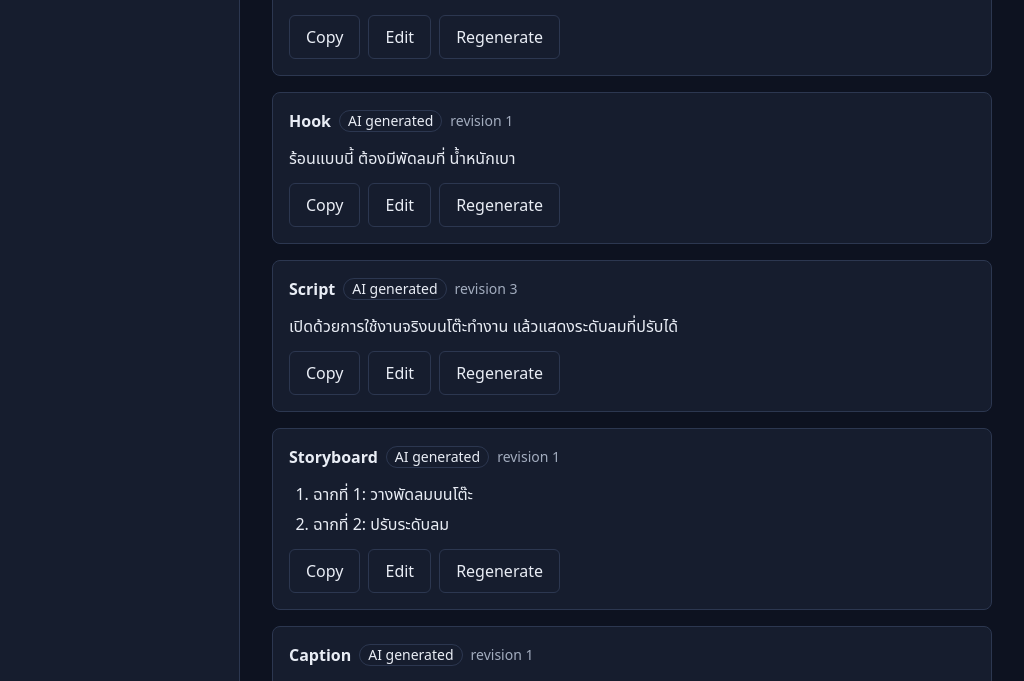
Test case: DraftPage: regenerate a section › sends the section, the revision on screen as expectedRev, and an Idempotency-Key
(page scrolled)
Click the button "Regenerate" below "Script". click: (500, 373)
box: left=439, top=351, right=560, bottom=395
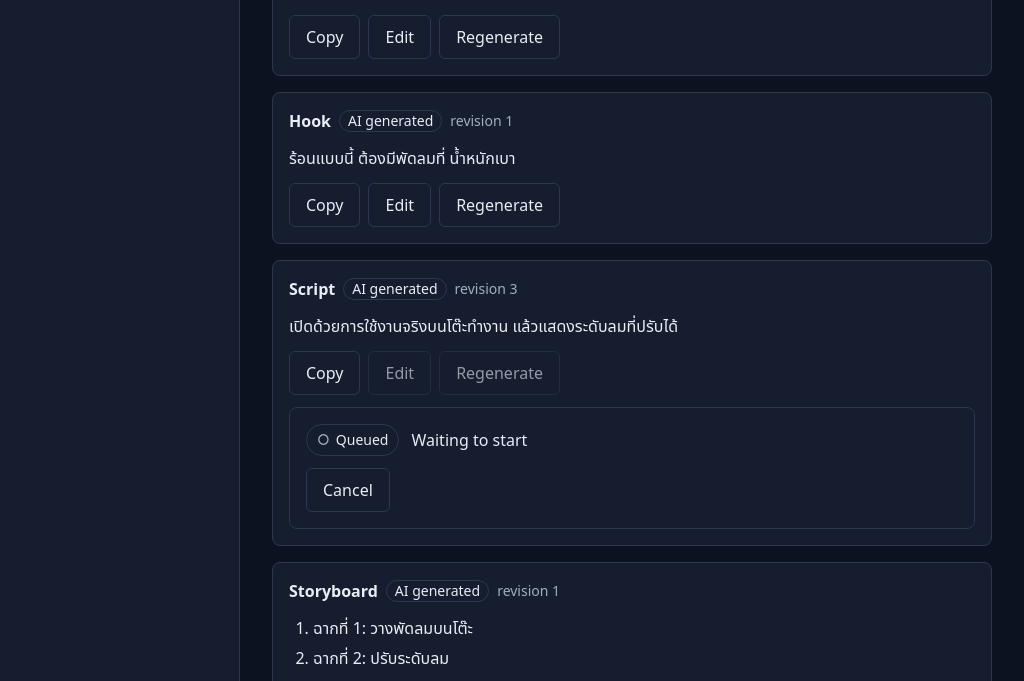
Now the text "Waiting to start" is shown, box left=411, top=427, right=527, bottom=453
